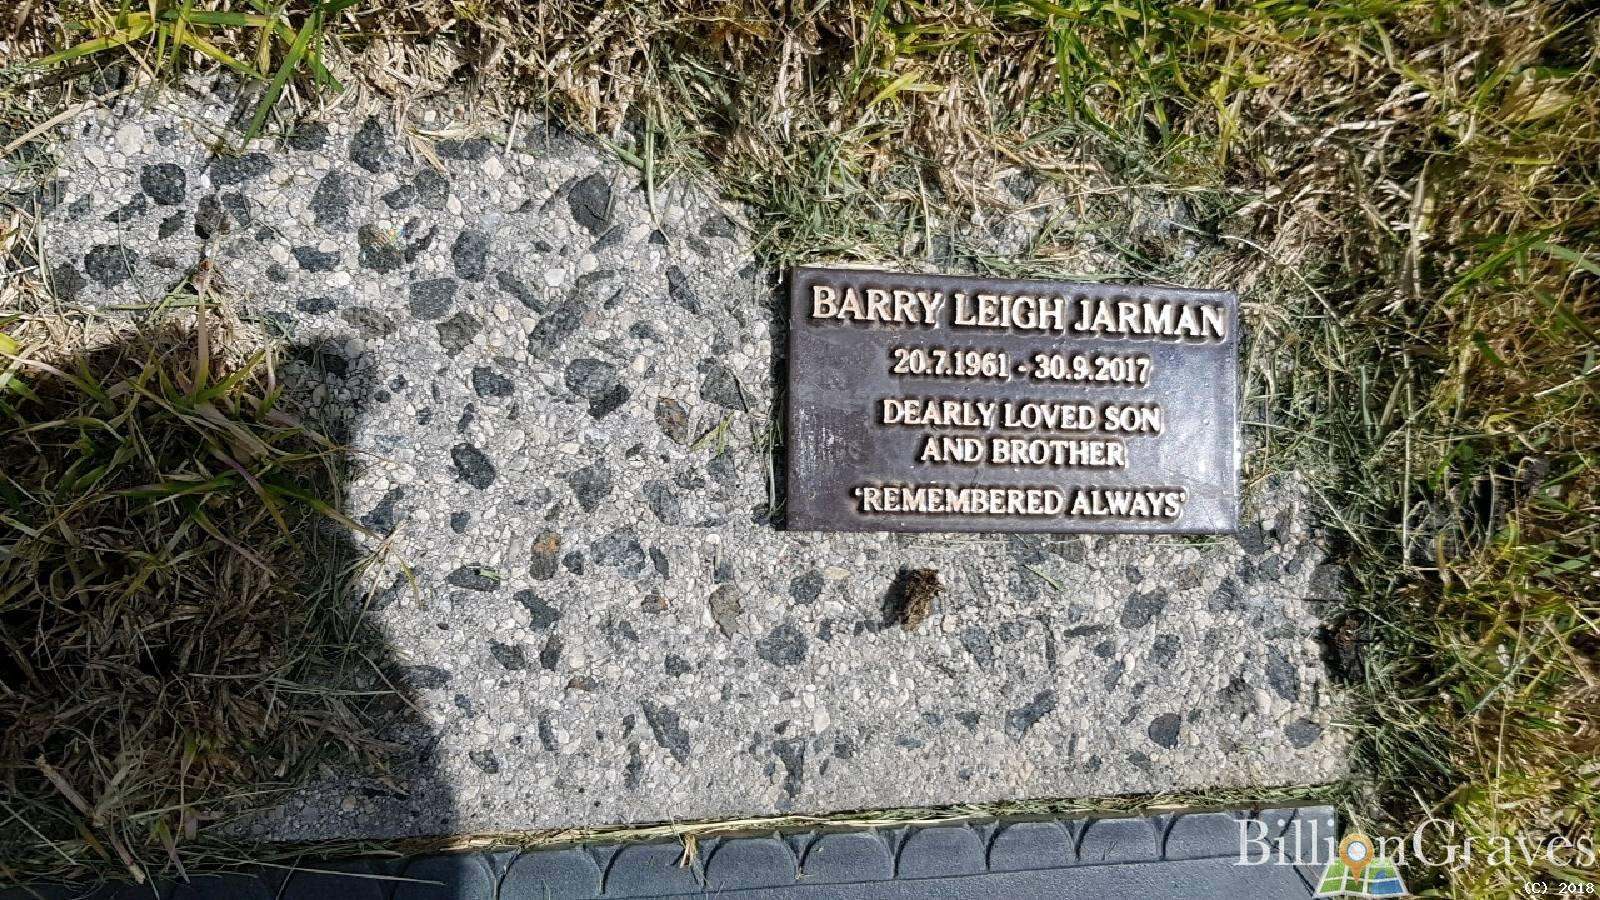plaque: (771, 267, 1245, 538)
